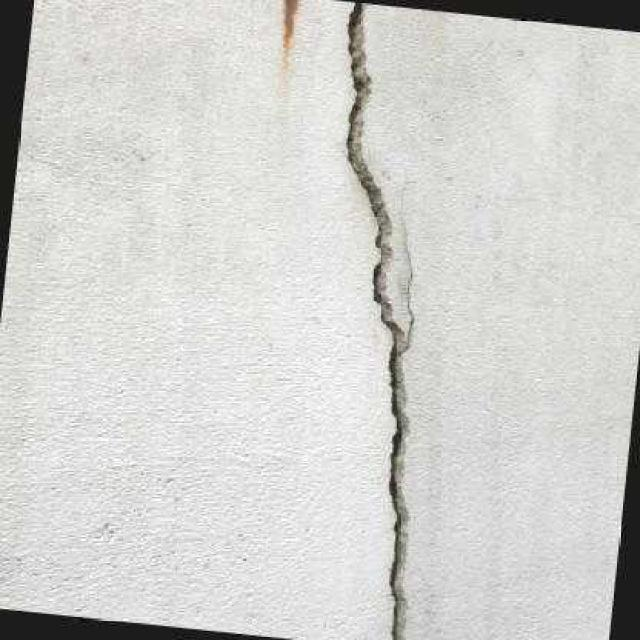D00: (343, 1, 412, 640)
